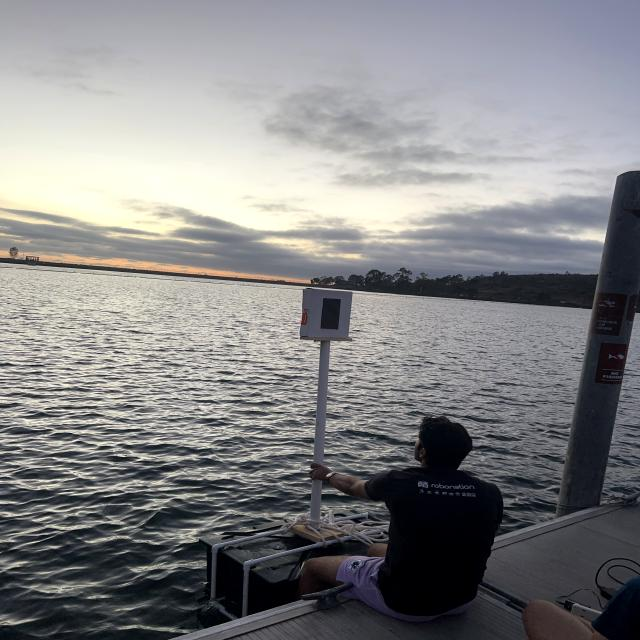led: (308, 289, 352, 343)
